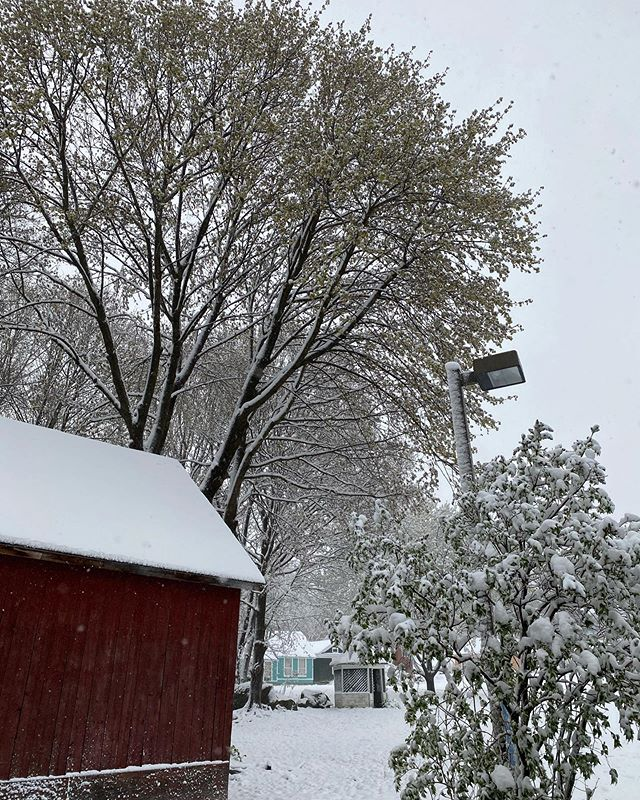building: (1, 408, 232, 800)
light pole: (438, 343, 537, 491)
sky: (509, 1, 640, 426)
tree: (1, 1, 511, 482), (371, 419, 640, 800)
